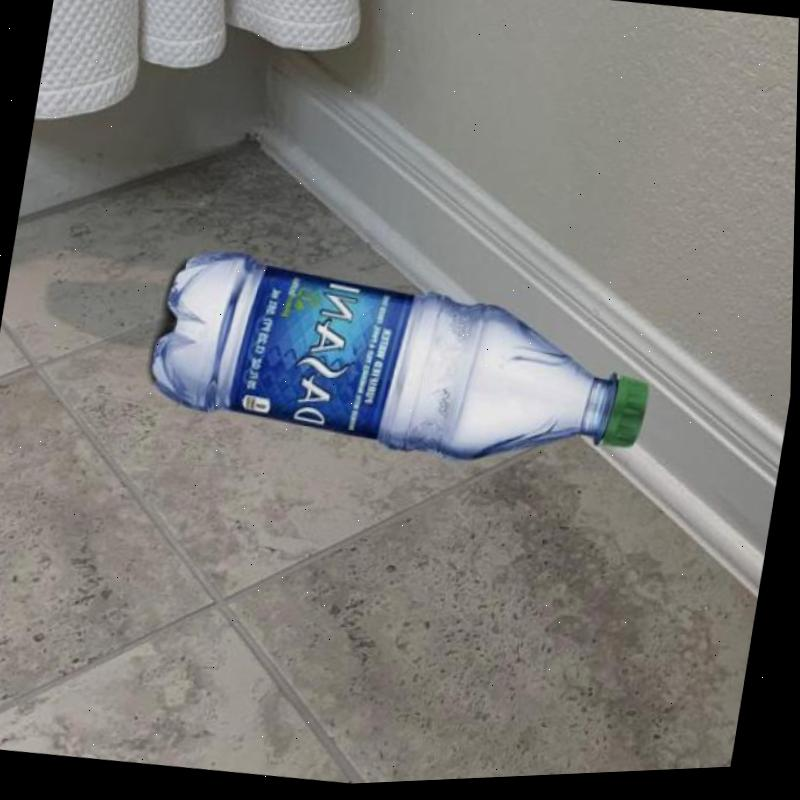botella: (139, 227, 665, 498)
